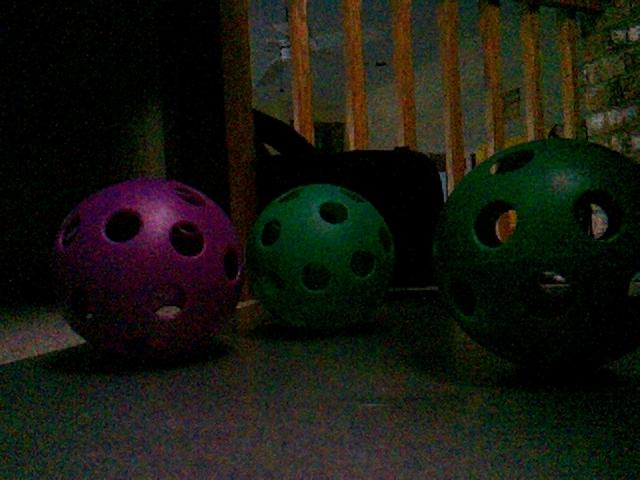Green: (432, 141, 640, 375), (246, 184, 395, 330)
Purple: (51, 178, 243, 360)
